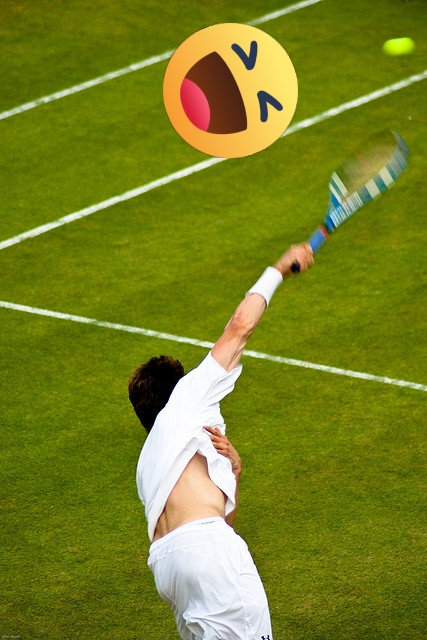haha: (163, 23, 298, 158)
